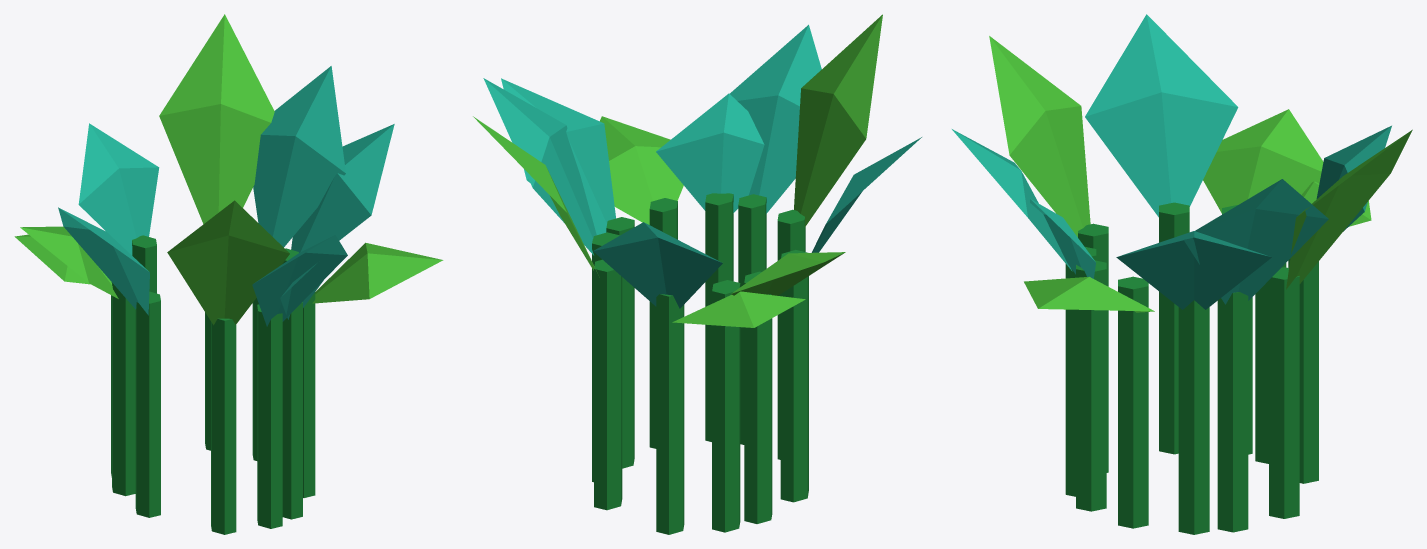
Rendered from banana_plant_group.fbx.
3 views of the same model, side by side, from view 1: azimuth 30°, elevation 25°; view 2: azimuth 150°, elevation 25°; view 3: azimuth 270°, elevation 25° (orthographic). The views are drawn at different scales.
Visible parts, largest first — view 1: banana_plant_group; view 2: banana_plant_group; view 3: banana_plant_group.
Boxes of the visible parts, x1,y1,x2,y2 form: banana_plant_group: [14, 14, 443, 534]; banana_plant_group: [473, 14, 921, 534]; banana_plant_group: [952, 14, 1412, 534].
Size of the model in its own units: 4 by 4 by 4.
